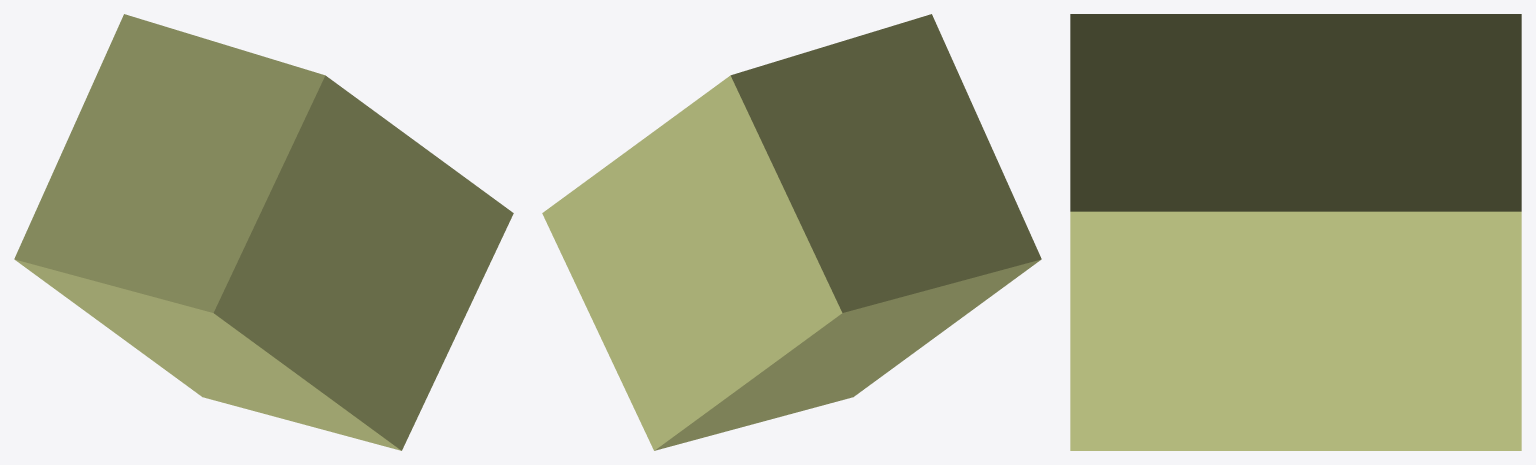
3 renders of one model, left to right at view 1: azimuth 30°, elevation 25°; view 2: azimuth 150°, elevation 25°; view 3: azimuth 270°, elevation 25°, orthographic. The views are drawn at different scales.
Parts seen in each view (by area): view 1: 0_1_0_0_1_3_0_2_1_3_1; view 2: 0_1_0_0_1_3_0_2_1_3_1; view 3: 0_1_0_0_1_3_0_2_1_3_1.
Boxes of the visible parts, x1=… form: 0_1_0_0_1_3_0_2_1_3_1: x1=14, y1=14, x2=513, y2=450; 0_1_0_0_1_3_0_2_1_3_1: x1=542, y1=14, x2=1041, y2=450; 0_1_0_0_1_3_0_2_1_3_1: x1=1070, y1=14, x2=1521, y2=450.
Bounding box in the file's own units: 5.73 × 5.64 × 6.
